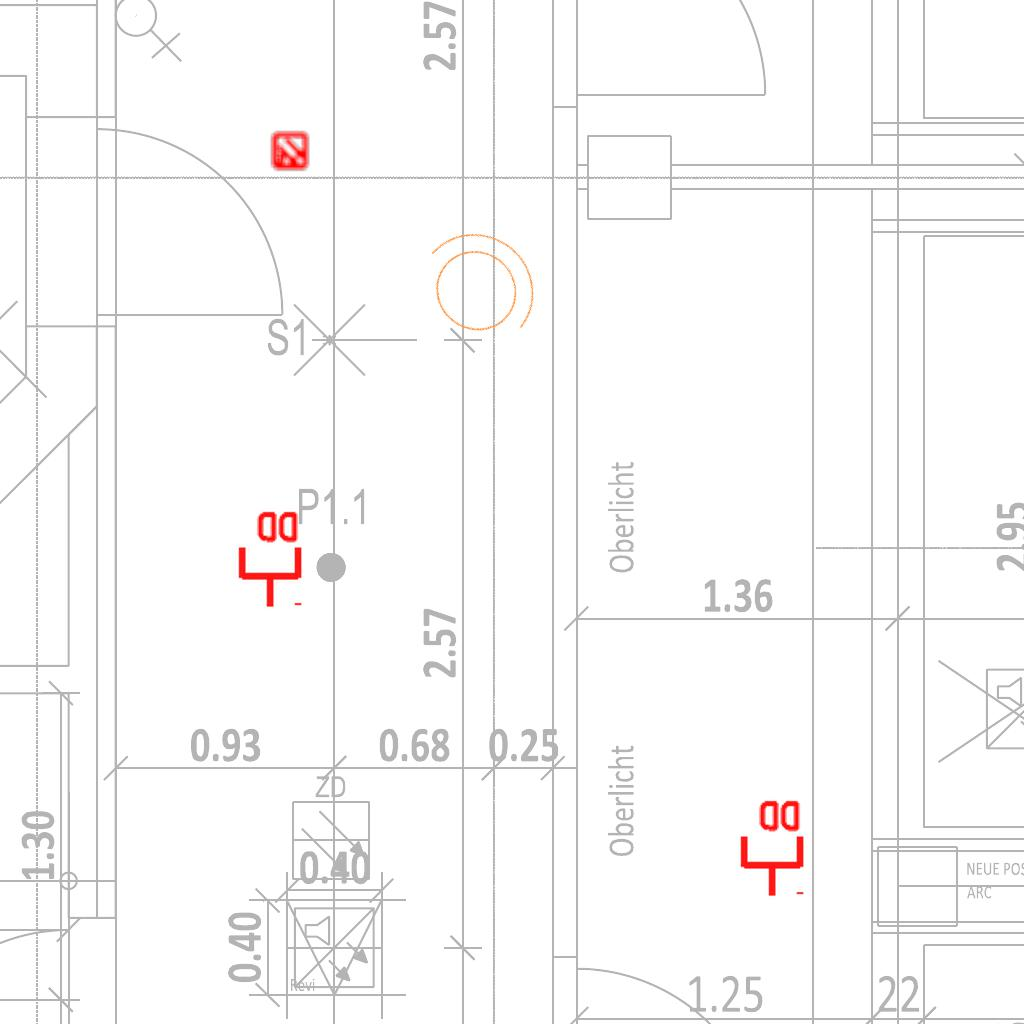Datenanschluss_zweifach: (736, 796, 805, 899), (234, 507, 303, 610)
OT_Multisensormelder_(Kombination_RMO_WMD): (262, 124, 318, 180)
Scheinwerfer_fuer_Alarmbeleuchtung: (390, 199, 564, 371)
